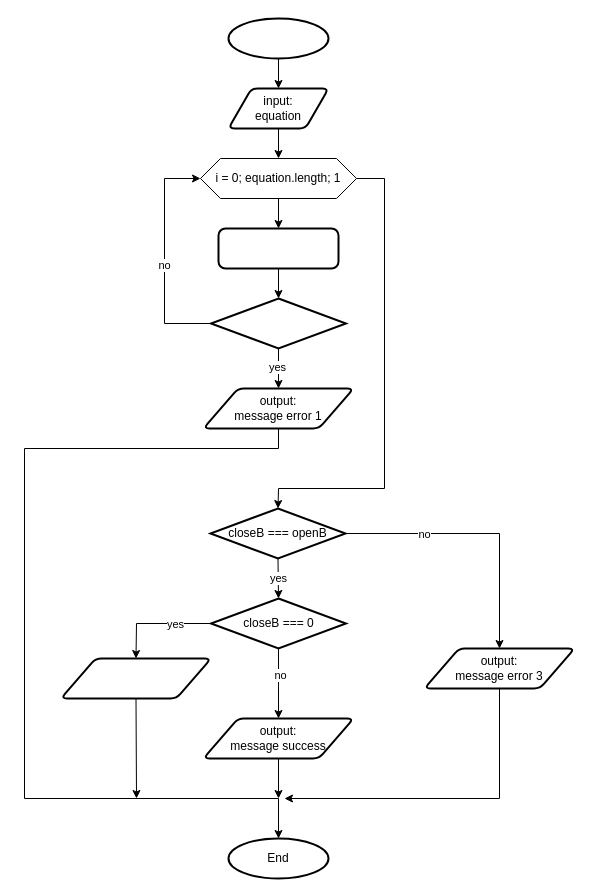
This 593x896 diagram has some shape labels left out. Each missing label, with the centre of its shape:
closeB > openB: (278,323)
openB++; closeB++;: (278,248)
output: message error 2: (136,678)
Start: (278,38)
